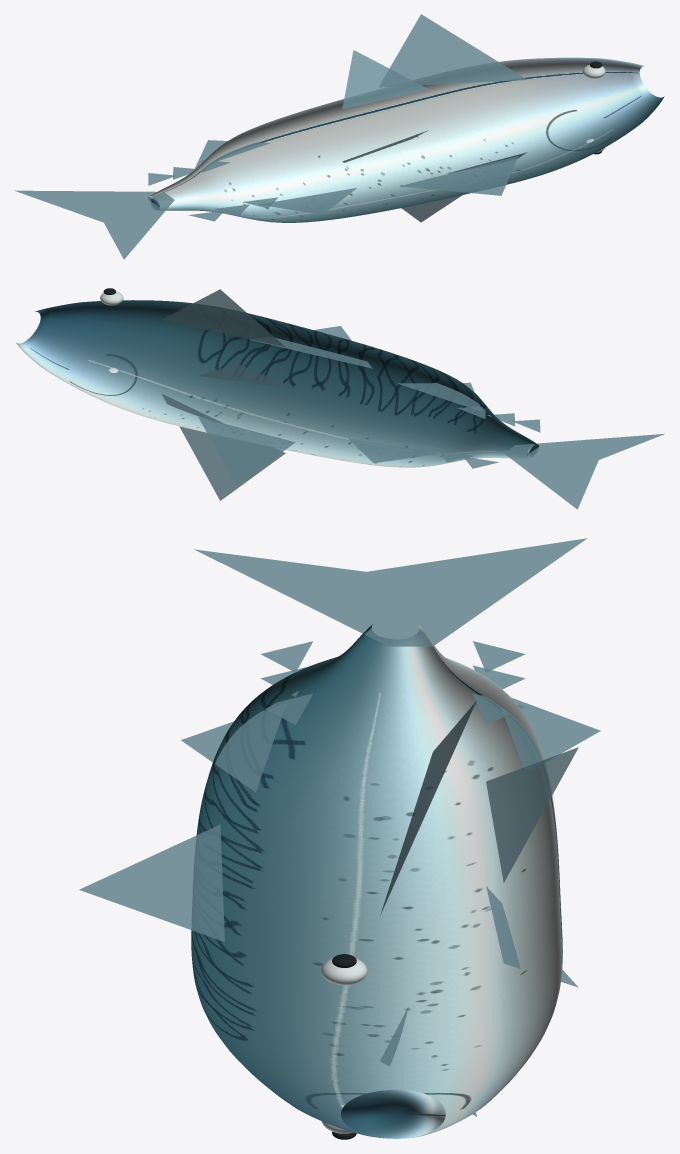
File: pacific-mackerel.gltf
3 views of the same model, one above another, from view 1: azimuth 30°, elevation 25°; view 2: azimuth 150°, elevation 25°; view 3: azimuth 270°, elevation 25° (orthographic). The views are drawn at different scales.
Parts seen in each view (by area): view 1: Body, PectoralLeft, CaudalFin, DorsalFin1, PelvicFinLeft, DorsalFin2, PectoralRight, AnalFin; view 2: Body, CaudalFin, PelvicFinRight, PectoralLeft, PectoralRight, AnalFin, DorsalFin1, PelvicFinLeft, DorsalFin2; view 3: Body, CaudalFin, DorsalFin1, PelvicFinLeft, DorsalFin2, AnalFin, PectoralLeft, PelvicFinRight.
Part boxes in pixels (left/top/right/bottom): Body: left=148, top=57, right=664, bottom=222; PectoralLeft: left=379, top=14, right=527, bottom=87; CaudalFin: left=14, top=190, right=174, bottom=259; DorsalFin1: left=400, top=156, right=518, bottom=195; PelvicFinLeft: left=342, top=50, right=428, bottom=109; DorsalFin2: left=259, top=188, right=356, bottom=214; PectoralRight: left=401, top=152, right=527, bottom=222; AnalFin: left=194, top=140, right=270, bottom=169; Body: left=16, top=300, right=538, bottom=467; CaudalFin: left=504, top=433, right=665, bottom=509; PelvicFinRight: left=198, top=417, right=295, bottom=485; PectoralLeft: left=162, top=289, right=285, bottom=347; PectoralRight: left=161, top=393, right=285, bottom=500; AnalFin: left=348, top=438, right=439, bottom=463; DorsalFin1: left=250, top=326, right=372, bottom=368; PelvicFinLeft: left=198, top=363, right=294, bottom=388; DorsalFin2: left=397, top=382, right=482, bottom=411; Body: left=191, top=624, right=562, bottom=1138; CaudalFin: left=194, top=538, right=586, bottom=646; DorsalFin1: left=79, top=824, right=224, bottom=941; PelvicFinLeft: left=486, top=747, right=578, bottom=882; DorsalFin2: left=181, top=703, right=286, bottom=792; AnalFin: left=501, top=697, right=600, bottom=767; PectoralLeft: left=380, top=700, right=476, bottom=915; PelvicFinRight: left=486, top=886, right=578, bottom=987.
Size of the model in its own units: 3.08 by 1.04 by 1.18.
4 materials, 1 textured.
